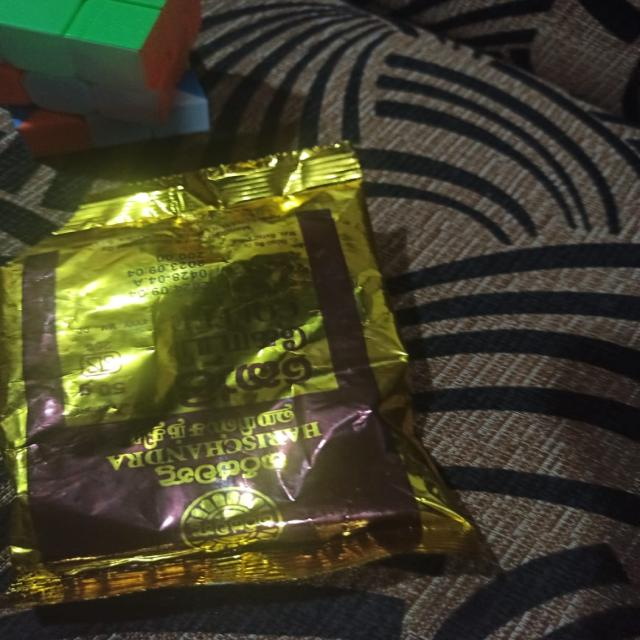Harischandra Coffee: (0, 157, 456, 595)
